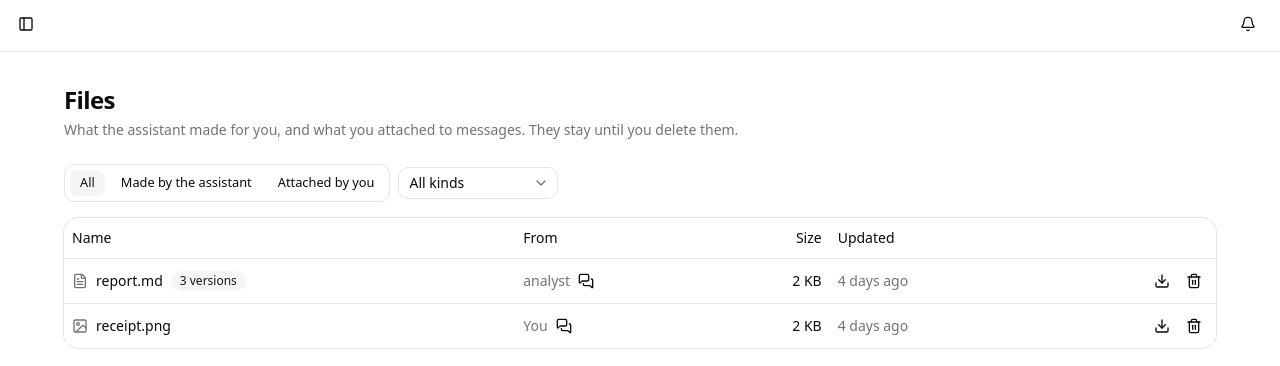
Test: files › lists what the assistant made and what the user attached, by source, and links each to its conversation
expect the text "report.md" is shown: met, box [96,270,163,290]
expect the text "3 versions" is shown: met, box [171,270,246,290]
Click the button "Attached by you": (326, 183) [267,169,385,197]
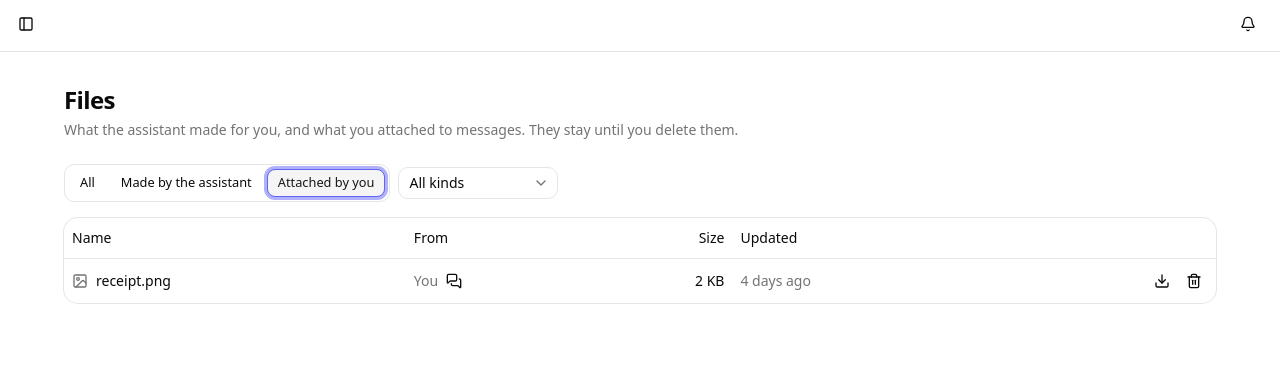
expect the text "receipt.png" is shown: met, box [96,270,171,290]
expect the text "report.md" is gone: met
